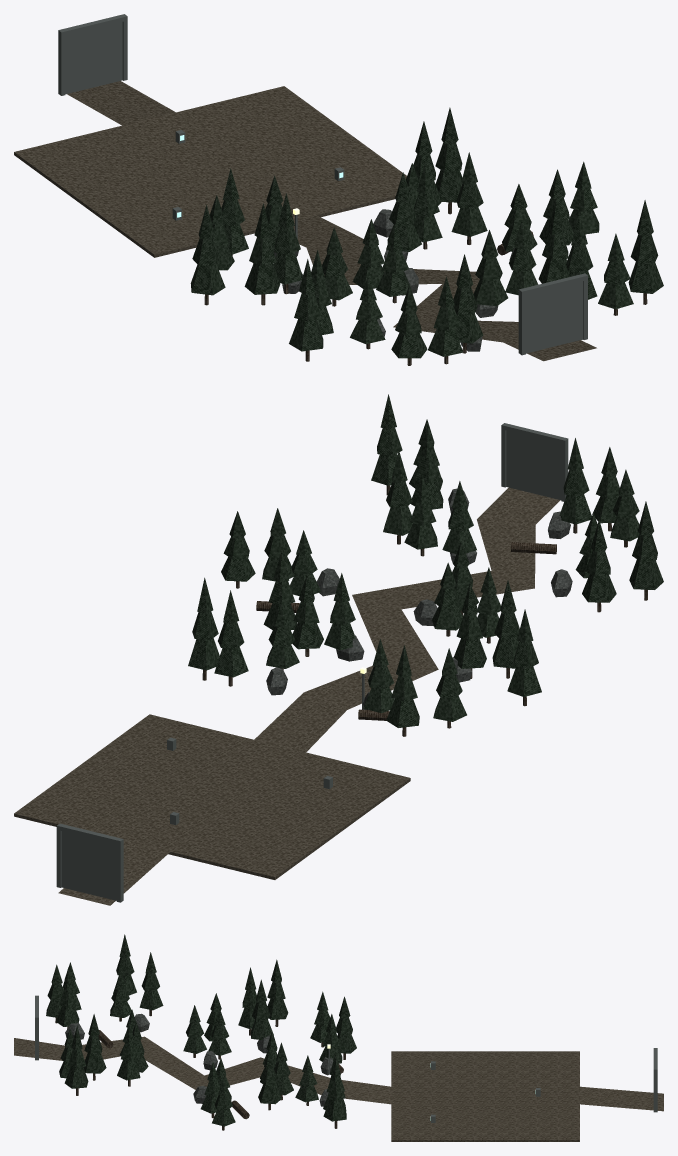
The model's file is PH03_Route_A.fbx.
3 views of the same model, one above another, from view 1: azimuth 30°, elevation 25°; view 2: azimuth 150°, elevation 25°; view 3: azimuth 270°, elevation 25° (orthographic). The views are drawn at different scales.
Visible parts, largest first — view 1: A_CombatPocket_20x18, A_TraversalSurface, A_Rear_OpaqueSeal, A_Front_OpaqueSeal, A_ExitApproach, Forest_Spruce.005, Forest_Spruce.019, Forest_Spruce.020, Forest_Spruce.008, Forest_Spruce.029, Forest_Spruce.018, Forest_Spruce.023 (+24 smaller); view 2: A_CombatPocket_20x18, A_TraversalSurface, A_Front_OpaqueSeal, A_Rear_OpaqueSeal, Forest_Spruce.008, Forest_Spruce.029, A_ExitApproach, Forest_Spruce.028, Forest_Spruce.007, Forest_Spruce.020, Forest_Spruce.018, Forest_Spruce (+21 smaller); view 3: A_CombatPocket_20x18, A_TraversalSurface, A_ExitApproach, Forest_Spruce.029, Forest_Spruce.005, Forest_Spruce.003, Forest_Spruce.020, Forest_Spruce.018, Forest_Spruce.023, Forest_Spruce.007, Forest_Spruce.011, Forest_Spruce (+16 smaller).
Boxes of the visible parts, x1,y1,x2,y2 form: A_CombatPocket_20x18: [14, 86, 406, 257]; A_TraversalSurface: [293, 215, 596, 361]; A_Rear_OpaqueSeal: [65, 22, 122, 94]; A_Front_OpaqueSeal: [526, 281, 583, 353]; A_ExitApproach: [67, 81, 175, 125]; Forest_Spruce.005: [628, 200, 663, 304]; Forest_Spruce.019: [244, 203, 280, 305]; Forest_Spruce.020: [190, 205, 225, 305]; Forest_Spruce.008: [289, 259, 323, 361]; Forest_Spruce.029: [435, 107, 462, 214]; Forest_Spruce.018: [273, 193, 302, 294]; Forest_Spruce.023: [451, 152, 487, 244]; A_CombatPocket_20x18: [14, 714, 410, 879]; A_TraversalSurface: [254, 487, 560, 752]; A_Front_OpaqueSeal: [506, 430, 561, 499]; A_Rear_OpaqueSeal: [61, 831, 116, 900]; Forest_Spruce.008: [629, 501, 663, 600]; Forest_Spruce.029: [188, 577, 219, 680]; A_ExitApproach: [58, 840, 170, 905]; Forest_Spruce.028: [214, 590, 248, 686]; Forest_Spruce.007: [582, 520, 616, 612]; Forest_Spruce.020: [507, 609, 541, 706]; Forest_Spruce.018: [454, 581, 486, 678]; Forest_Spruce: [559, 438, 591, 533]; A_CombatPocket_20x18: [391, 1051, 579, 1141]; A_TraversalSurface: [14, 1036, 391, 1104]; A_ExitApproach: [580, 1086, 663, 1111]; Forest_Spruce.029: [323, 1057, 346, 1128]; Forest_Spruce.005: [64, 1026, 88, 1095]; Forest_Spruce.003: [83, 1014, 106, 1080]; Forest_Spruce.020: [267, 959, 288, 1026]; Forest_Spruce.018: [250, 979, 273, 1040]; Forest_Spruce.023: [258, 1048, 281, 1110]; Forest_Spruce.007: [139, 952, 163, 1016]; Forest_Spruce.011: [117, 1021, 140, 1086]; Forest_Spruce: [56, 967, 79, 1028].
Bounding box in the file's own units: 2811 × 1229 × 6200.
7 materials, 4 textured.
